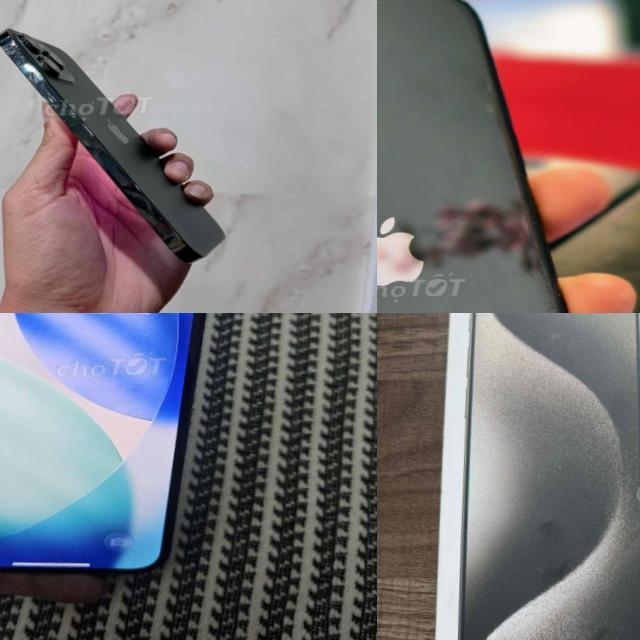scratch: (524, 237, 607, 313), (0, 36, 71, 116), (450, 56, 510, 145), (377, 0, 405, 33)
